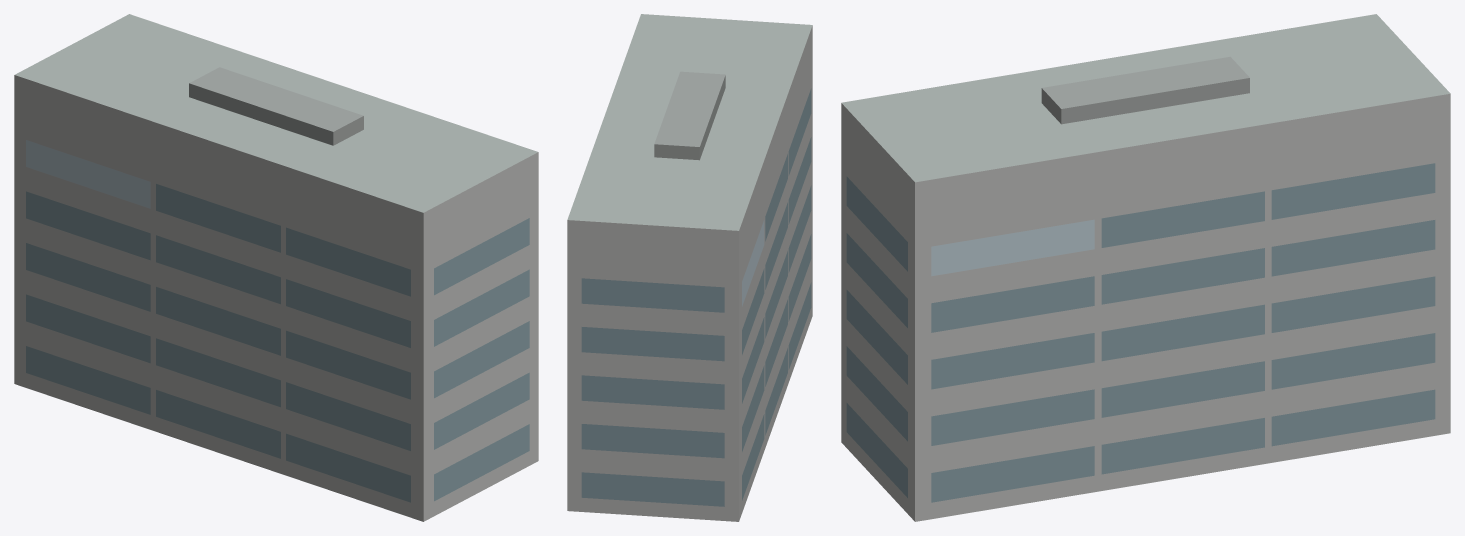
The model's file is fallback-olympic-athletes-village-239.glb.
3 renders of one model, left to right at view 1: azimuth 30°, elevation 25°; view 2: azimuth 150°, elevation 25°; view 3: azimuth 270°, elevation 25°, orthographic. The views are drawn at different scales.
Parts seen in each view (by area): view 1: fallback-olympic-athletes-village-239; view 2: fallback-olympic-athletes-village-239; view 3: fallback-olympic-athletes-village-239.
Part boxes in pixels (box(x1,y1,x2,y2)): fallback-olympic-athletes-village-239: box(14, 14, 538, 521); fallback-olympic-athletes-village-239: box(567, 14, 812, 521); fallback-olympic-athletes-village-239: box(841, 14, 1450, 521).
Bounding box in the file's own units: 19.46 × 19.12 × 29.77.
